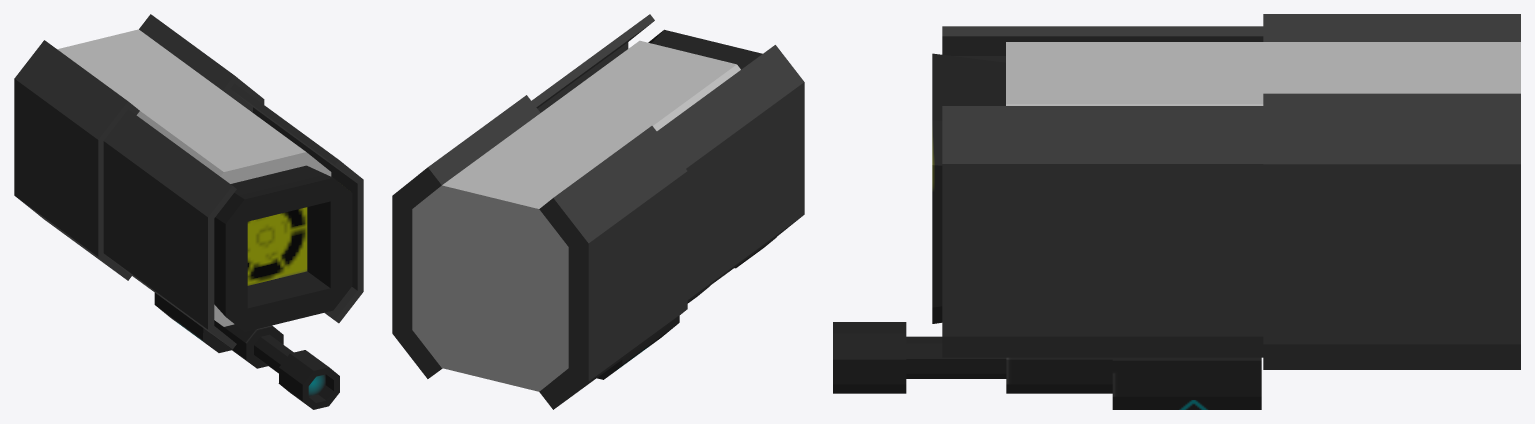
File: Camera_Ceiling_Main.fbx
The picture shows the model from 3 angles, left to right: view 1: azimuth 30°, elevation 25°; view 2: azimuth 150°, elevation 25°; view 3: azimuth 270°, elevation 25°; orthographic projection. The views are drawn at different scales.
Visible parts, largest first — view 1: polySurface35; view 2: polySurface35; view 3: polySurface35.
Part boxes in pixels (left/top/right/bottom): polySurface35: left=14, top=14, right=363, bottom=409; polySurface35: left=392, top=14, right=804, bottom=409; polySurface35: left=833, top=14, right=1520, bottom=409.
Bounding box in the file's own units: 98.75 × 129 × 230.
Materials: 1 (1 with a texture image).
